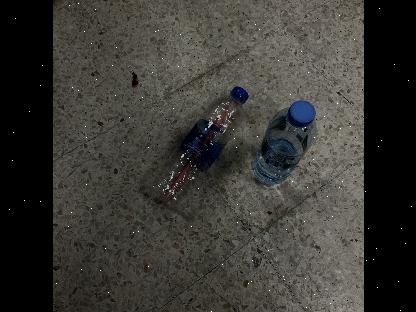Plastic Bottle: (142, 87, 248, 209), (254, 102, 314, 186)
